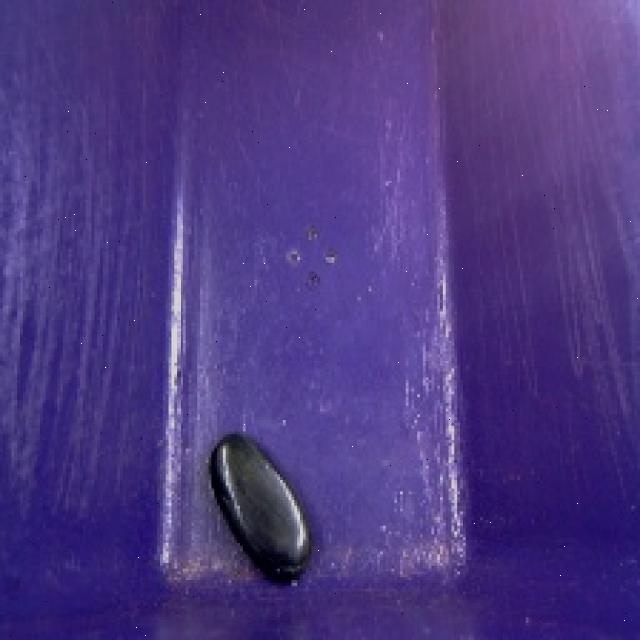cobbles: (196, 415, 328, 597)
